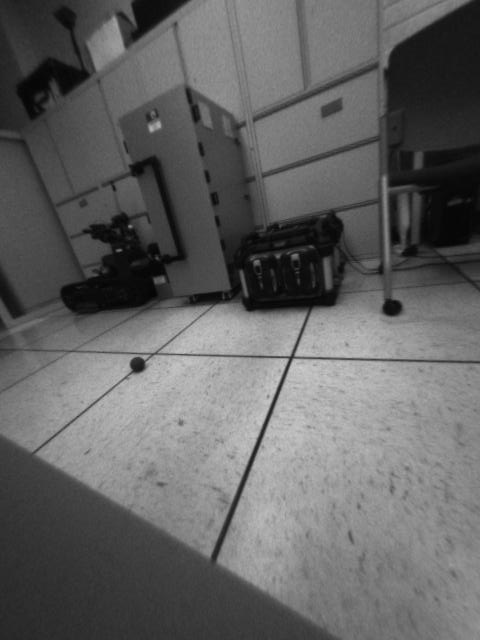dogtoy: (122, 348, 154, 377)
